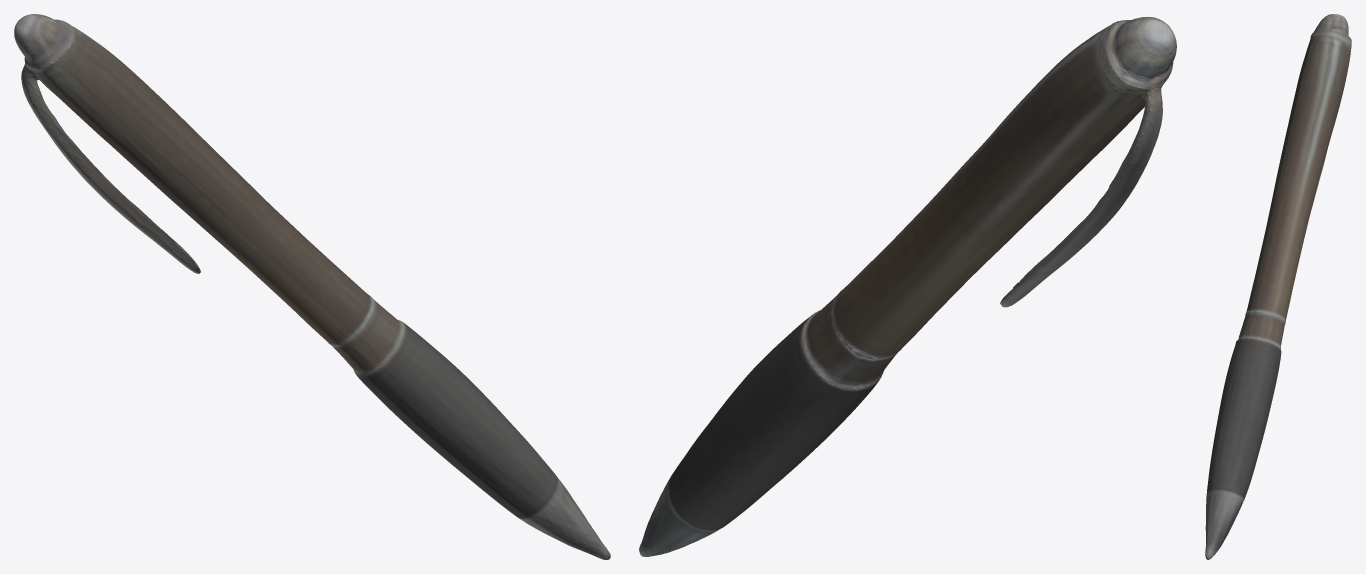
Rendered from frame_0013_source_000013_object.glb.
3 views of the same model, side by side, from view 1: azimuth 30°, elevation 25°; view 2: azimuth 150°, elevation 25°; view 3: azimuth 270°, elevation 25° (orthographic). The views are drawn at different scales.
Parts seen in each view (by area): view 1: world; view 2: world; view 3: world.
Boxes of the visible parts, x1,y1,x2,y2 form: world: (14, 14, 610, 559); world: (639, 17, 1176, 556); world: (1205, 14, 1351, 559).
Bounding box in the file's own units: 0.1255 × 0.1422 × 0.0483.
